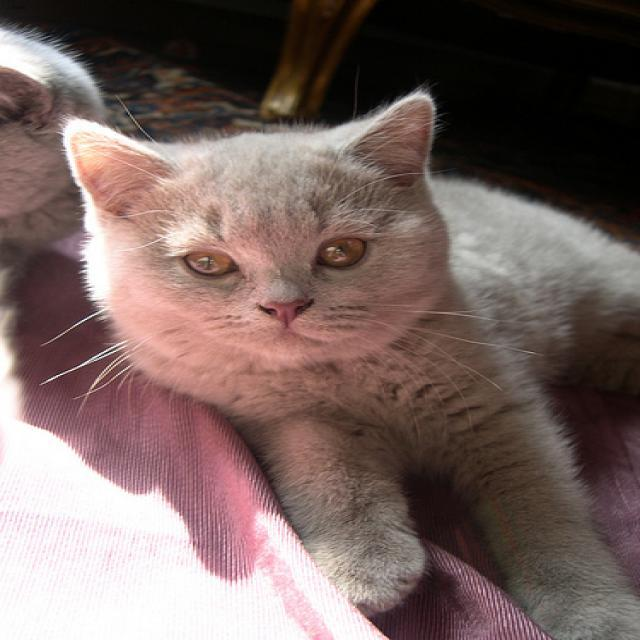British_Shorthair: (61, 90, 444, 359)
